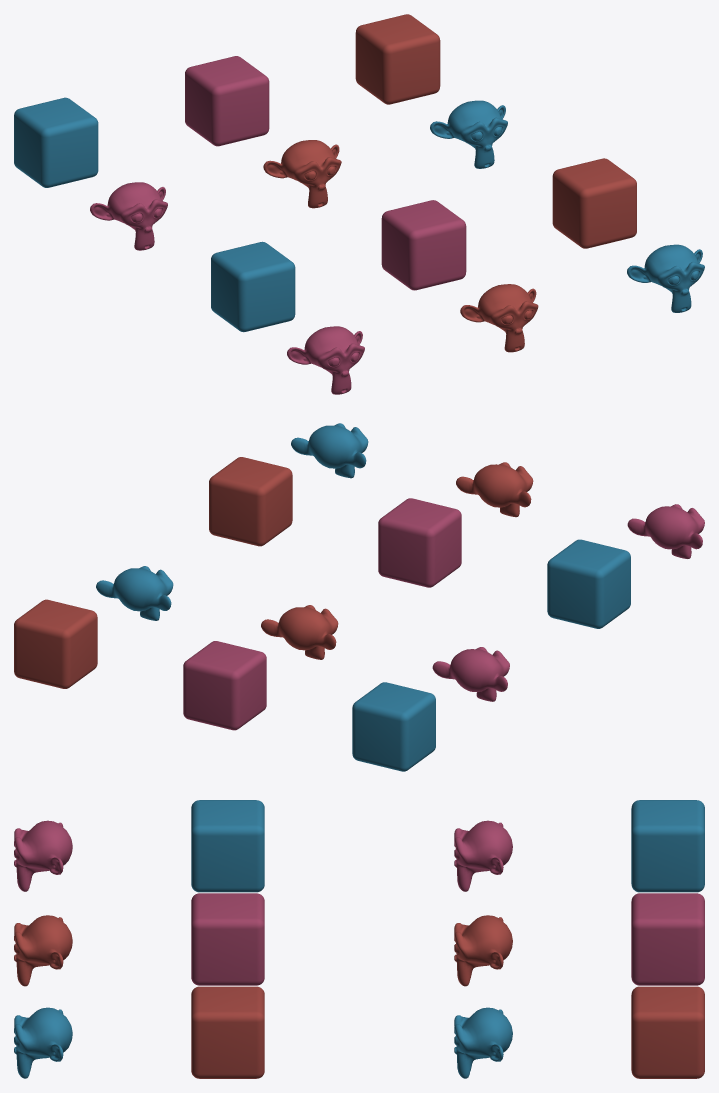
File: monkey.glb
3 views of the same model, one above another, from view 1: azimuth 30°, elevation 25°; view 2: azimuth 150°, elevation 25°; view 3: azimuth 270°, elevation 25° (orthographic). The views are drawn at different scales.
Parts seen in each view (by area): view 1: Redcube.001, PurpleCube, BlueCube.001, Redcube, BlueCube, PurpleCube.001, RedMonkey, PurpleMonkey, BlueMonkey.001, PurpleMonkey.001, RedMonkey.001, BlueMonkey; view 2: Redcube.001, PurpleCube, BlueCube.001, PurpleCube.001, Redcube, BlueCube, RedMonkey, PurpleMonkey, PurpleMonkey.001, BlueMonkey, BlueMonkey.001, RedMonkey.001; view 3: PurpleCube.001, Redcube.001, BlueCube.001, Redcube, BlueCube, PurpleCube, PurpleMonkey.001, BlueMonkey.001, RedMonkey.001, RedMonkey, BlueMonkey, PurpleMonkey.
Part boxes in pixels (box(x1,y1,x2,y2)): Redcube.001: box(355, 14, 440, 104); PurpleCube: box(381, 200, 466, 290); BlueCube.001: box(14, 97, 98, 187); Redcube: box(552, 158, 636, 248); BlueCube: box(211, 241, 295, 332); PurpleCube.001: box(185, 56, 269, 146); RedMonkey: box(460, 284, 538, 352); PurpleMonkey: box(287, 326, 364, 394); BlueMonkey.001: box(430, 100, 507, 168); PurpleMonkey.001: box(90, 182, 167, 250); RedMonkey.001: box(263, 140, 341, 208); BlueMonkey: box(627, 244, 704, 312); Redcube.001: box(14, 599, 97, 688); PurpleCube: box(378, 498, 461, 587); BlueCube.001: box(352, 682, 435, 771); PurpleCube.001: box(183, 641, 266, 730); Redcube: box(209, 457, 292, 546); BlueCube: box(547, 539, 630, 628); RedMonkey: box(456, 462, 533, 517); PurpleMonkey: box(627, 504, 704, 558); PurpleMonkey.001: box(432, 647, 509, 701); BlueMonkey: box(291, 423, 368, 478); BlueMonkey.001: box(96, 566, 173, 620); RedMonkey.001: box(261, 605, 338, 659); PurpleCube.001: box(631, 893, 704, 985); Redcube.001: box(631, 986, 704, 1078); BlueCube.001: box(631, 800, 704, 892); Redcube: box(191, 986, 264, 1078); BlueCube: box(191, 800, 264, 892); PurpleCube: box(191, 893, 264, 985); PurpleMonkey.001: box(454, 820, 512, 891); BlueMonkey.001: box(454, 1007, 512, 1078); RedMonkey.001: box(454, 915, 512, 986); RedMonkey: box(14, 915, 72, 986); BlueMonkey: box(14, 1007, 72, 1078); PurpleMonkey: box(14, 820, 72, 891).
Size of what is drawn, in the model's own units: 14.59 by 2.36 by 18.8.
